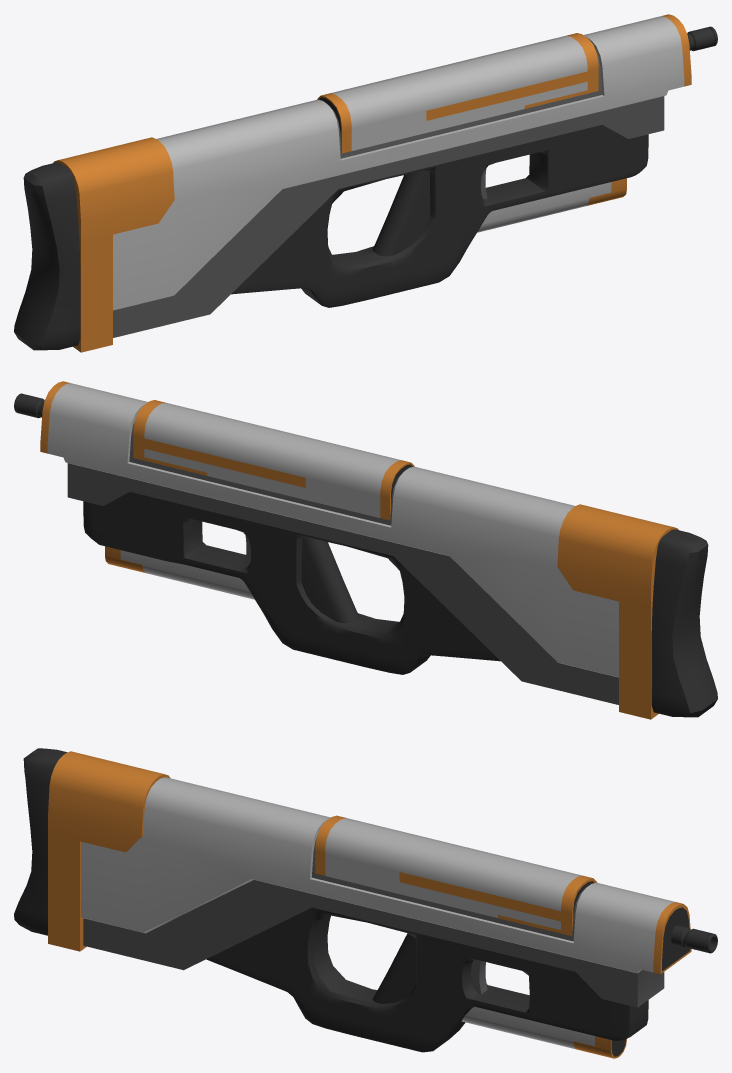
The picture shows the model from 3 angles, top to bottom: view 1: azimuth 30°, elevation 25°; view 2: azimuth 150°, elevation 25°; view 3: azimuth 330°, elevation 25°; orthographic projection.
Parts seen in each view (by area): view 1: AR_6; view 2: AR_6; view 3: AR_6.
Boxes of the visible parts, box(x1,y1,x2,y2) form: AR_6: box(14, 14, 717, 352); AR_6: box(14, 381, 717, 719); AR_6: box(14, 748, 717, 1058).
Size of the model in its own units: 1.76 by 0.4944 by 0.1456.
